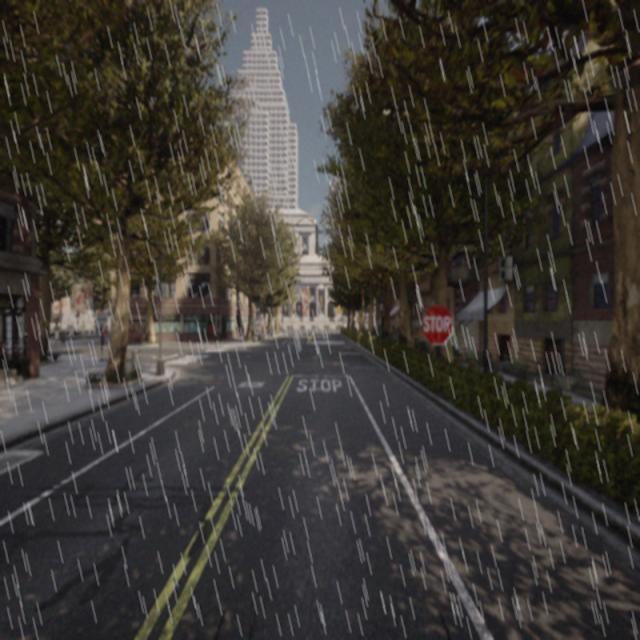stop sign: (419, 301, 455, 348)
